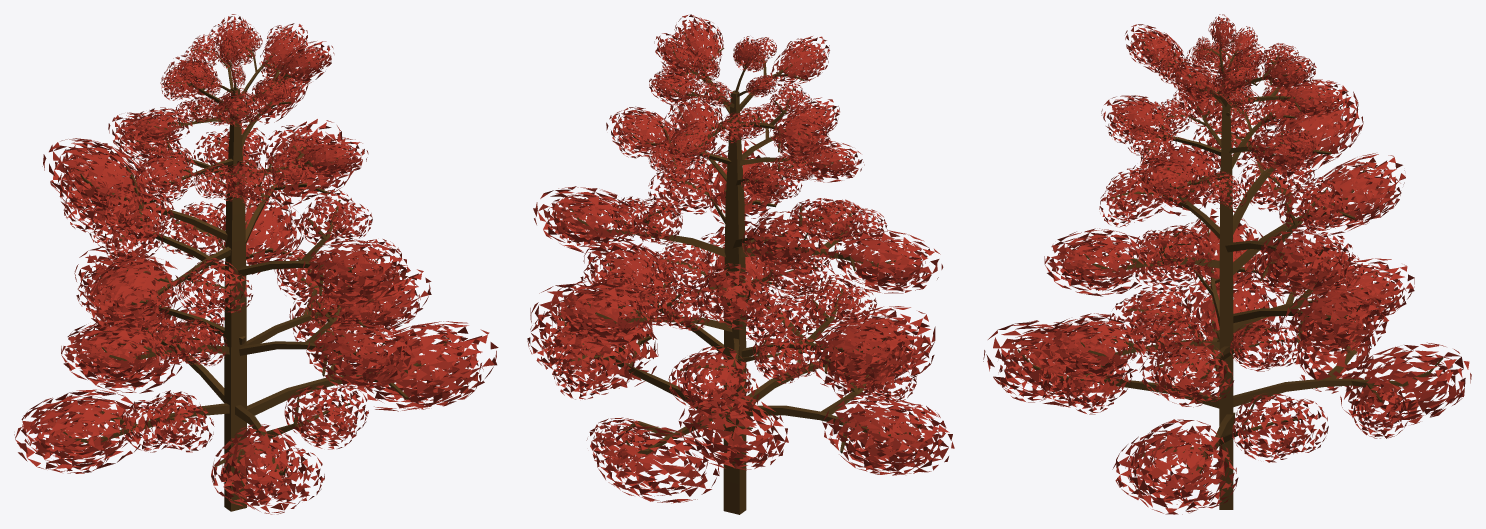
The model's file is tree3.fbx.
3 views of the same model, side by side, from view 1: azimuth 30°, elevation 25°; view 2: azimuth 150°, elevation 25°; view 3: azimuth 270°, elevation 25° (orthographic). The views are drawn at different scales.
Parts seen in each view (by area): view 1: tREEvERT1; view 2: tREEvERT1; view 3: tREEvERT1.
Part boxes in pixels (x1,y1,x2,y2): tREEvERT1: (14,14,498,514); tREEvERT1: (527,14,954,514); tREEvERT1: (983,14,1471,514).
Bounding box in the file's own units: 0.0585 × 0.0593 × 0.0541.
